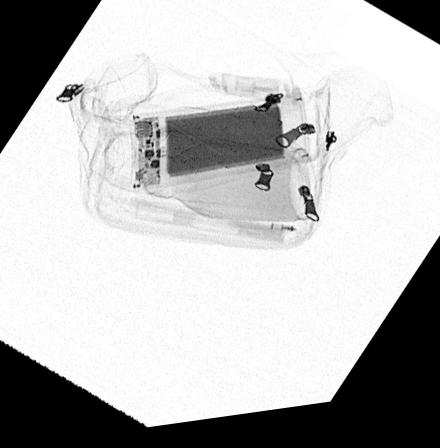Powerbank: (128, 103, 309, 194)
